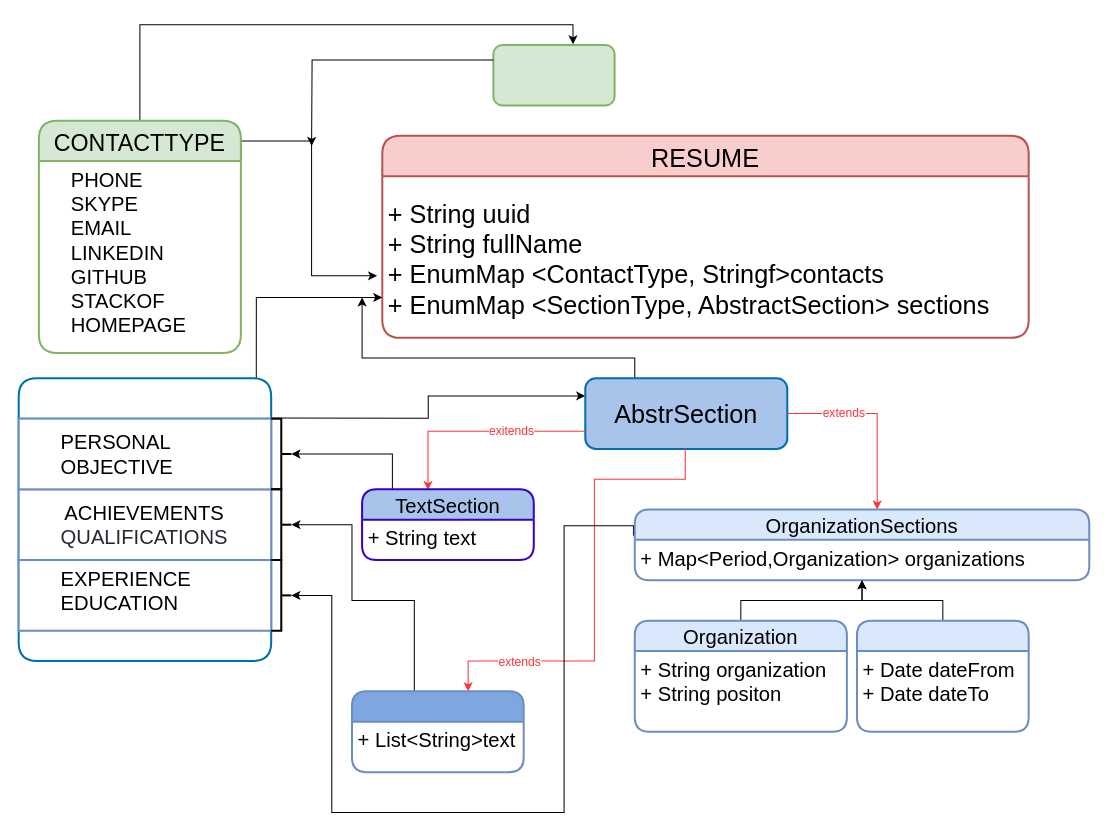
The diagram is 1107 pixels wide and 838 high, and some of its shapes have lost their labels. The box of each missing label's shape, as (x1, y1, x2, y2) in pixels:
ListSection: (350, 690, 524, 773)
Period: (855, 619, 1029, 732)
SECTIONTYPE: (17, 377, 272, 662)
String: (492, 43, 615, 106)
